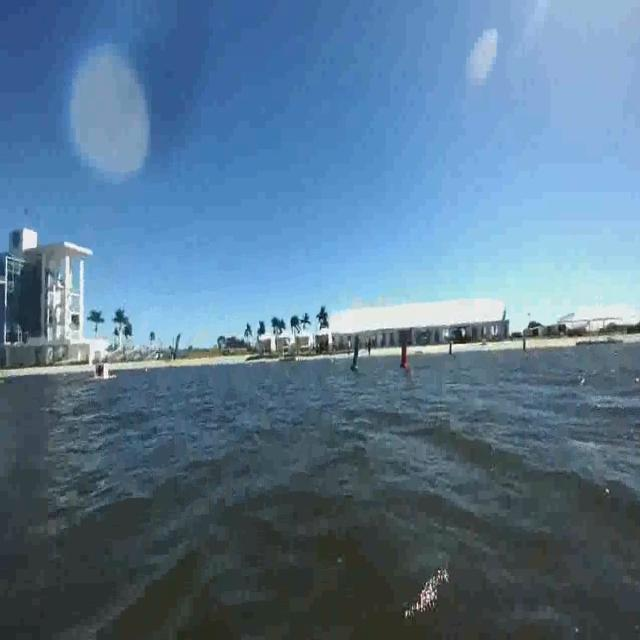green-column-buoy: (350, 334, 362, 372)
red-column-buoy: (399, 343, 408, 370)
